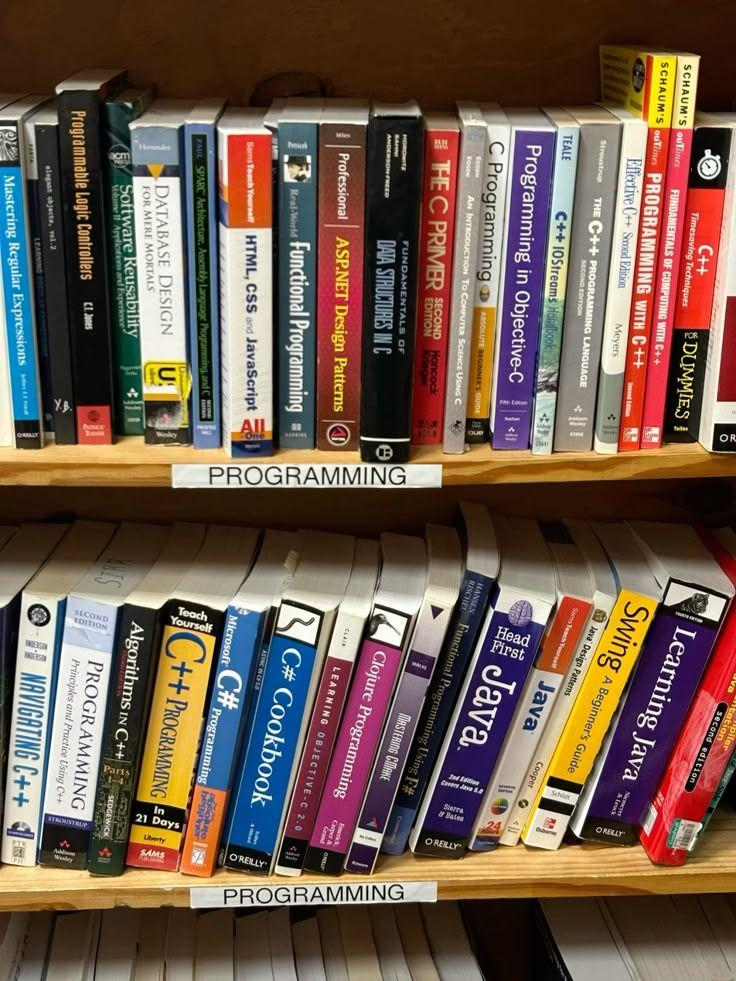book: (620, 54, 683, 444), (54, 79, 115, 441), (490, 109, 554, 448), (130, 104, 193, 444), (560, 106, 622, 447), (312, 101, 372, 449), (663, 125, 724, 442), (218, 103, 271, 447), (533, 107, 582, 445), (413, 108, 462, 445), (441, 106, 489, 445), (21, 102, 69, 440), (277, 103, 321, 447), (105, 92, 146, 431), (0, 119, 40, 449)
